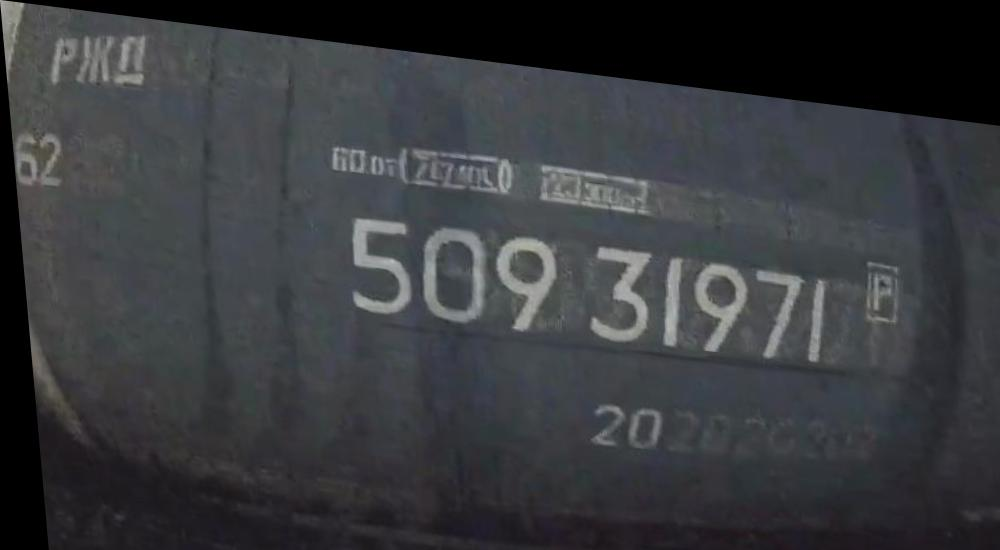Wagon-number: (331, 197, 837, 357)
